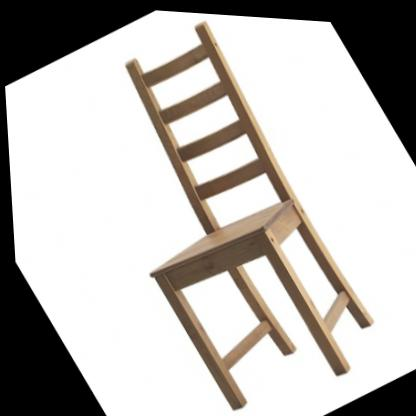Chair: (37, 4, 400, 416)
